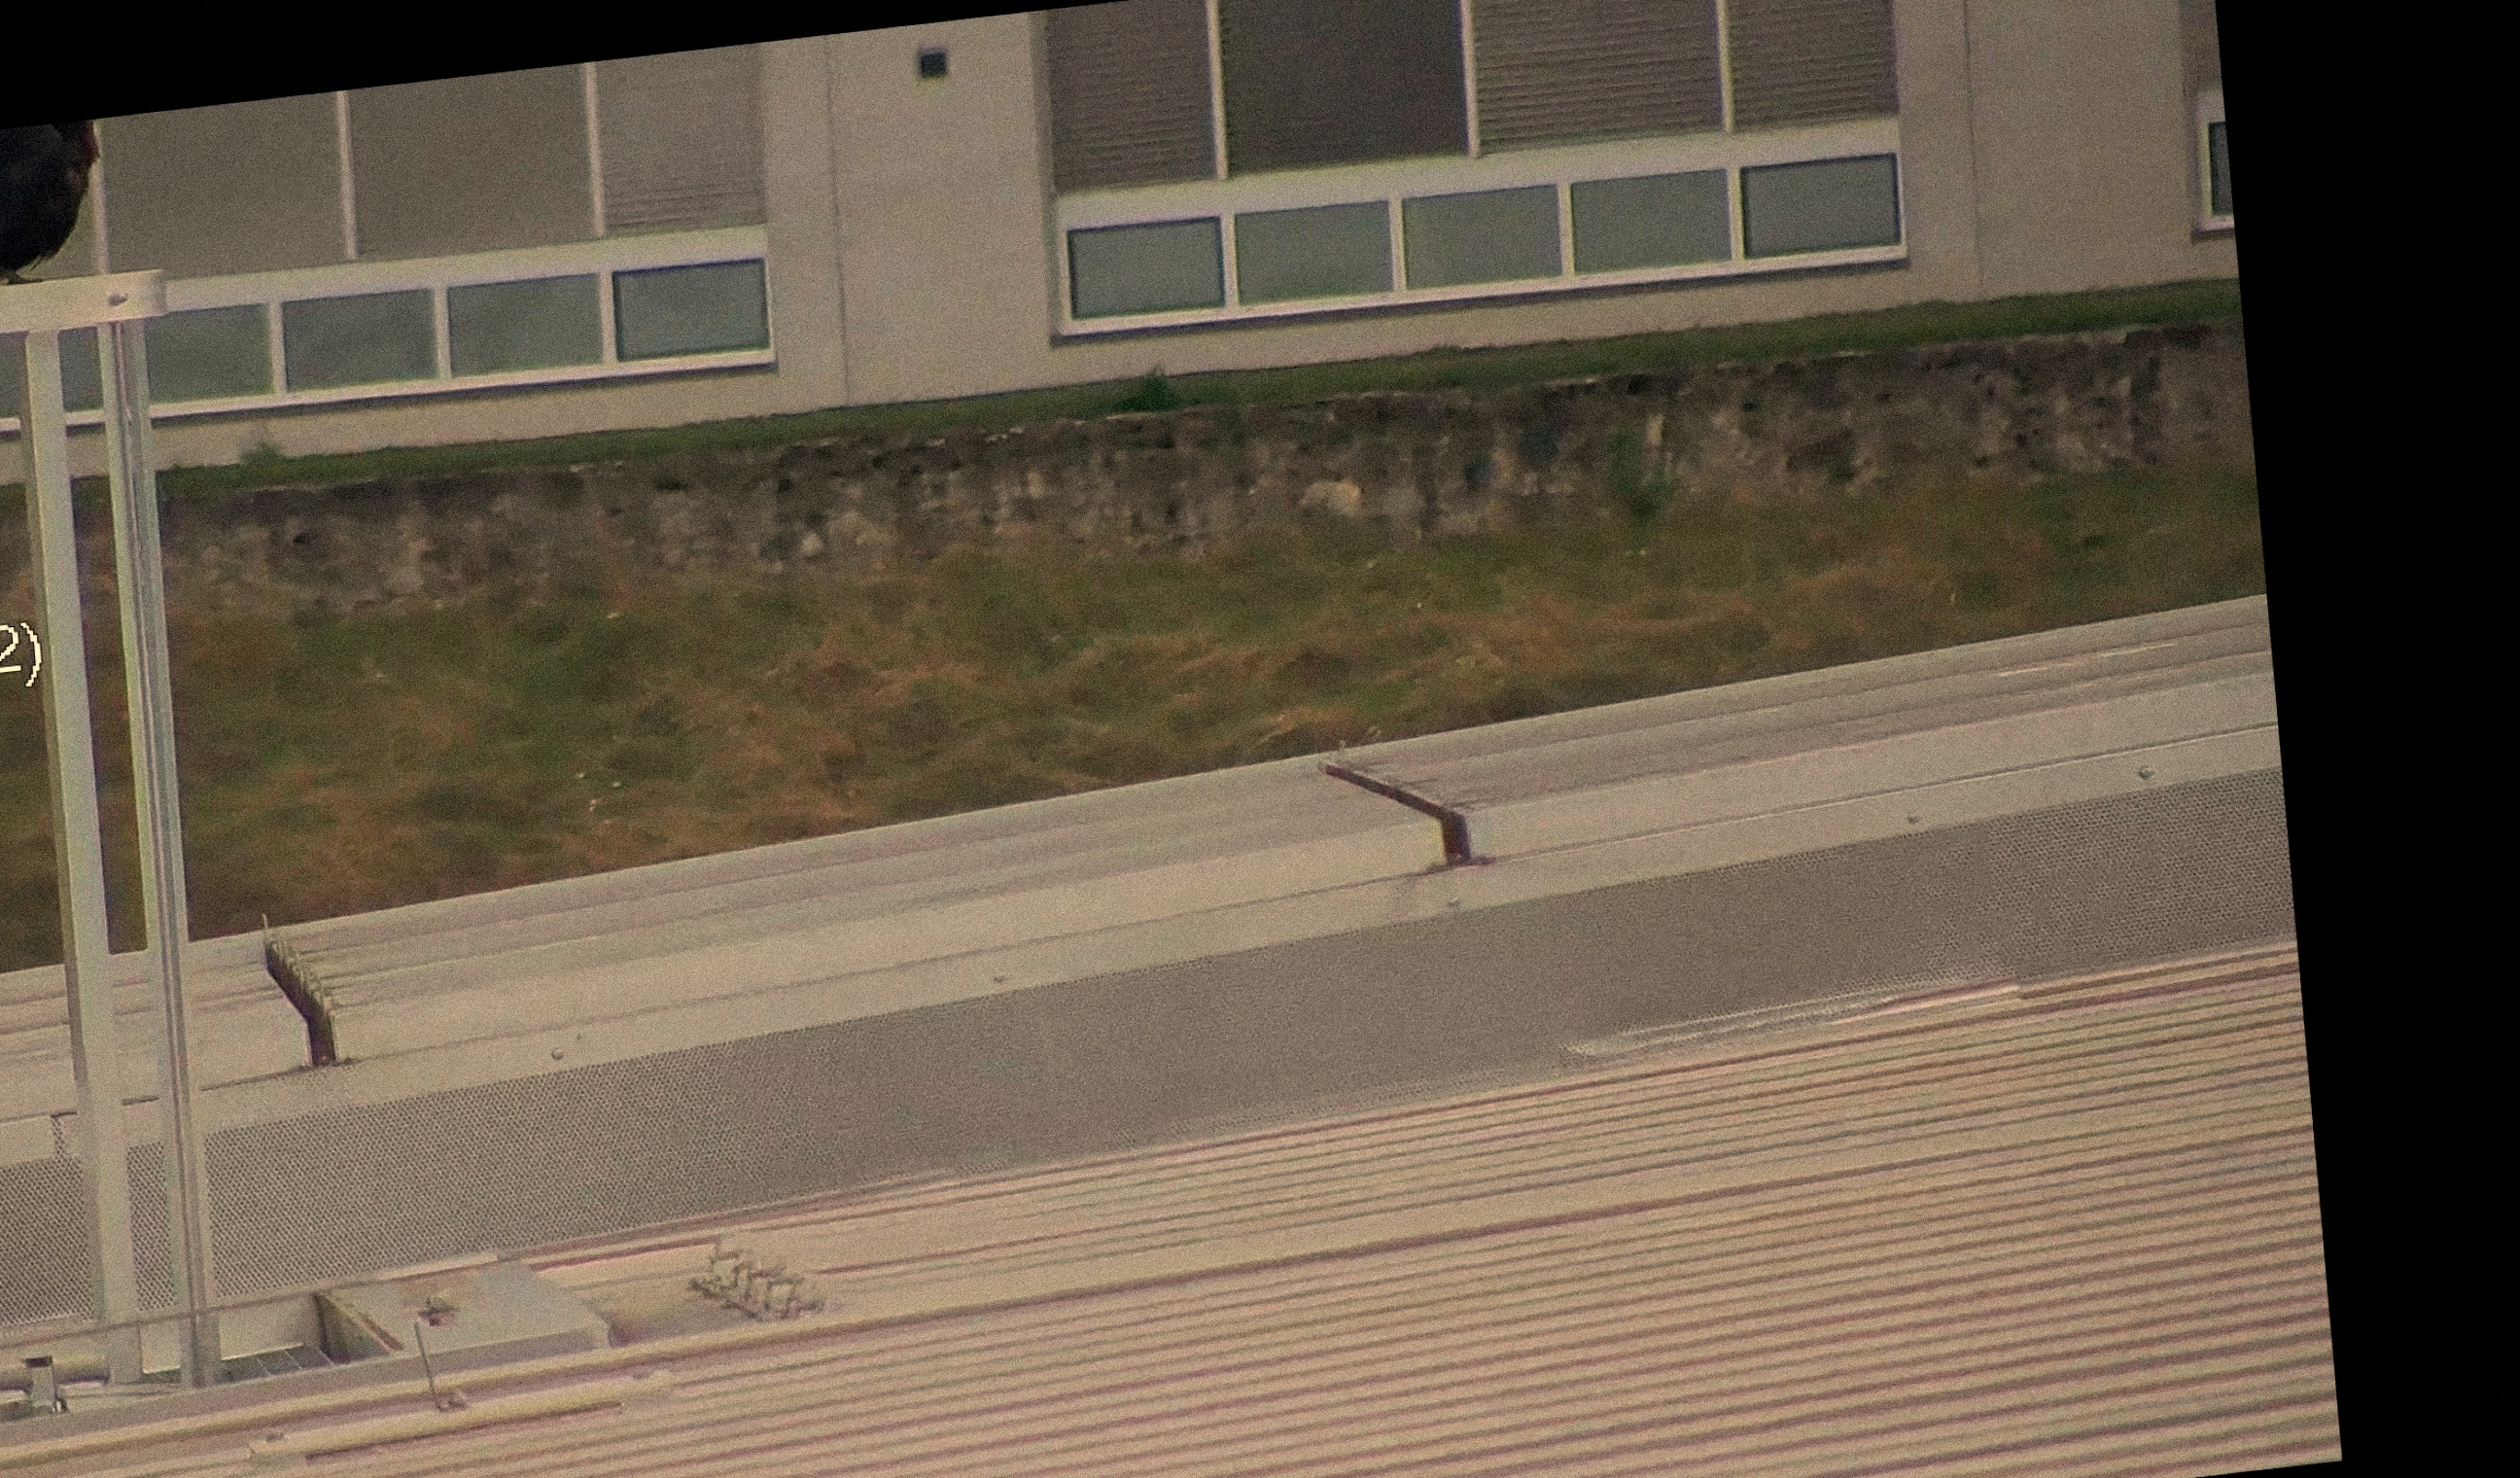Other: (0, 120, 106, 322)
